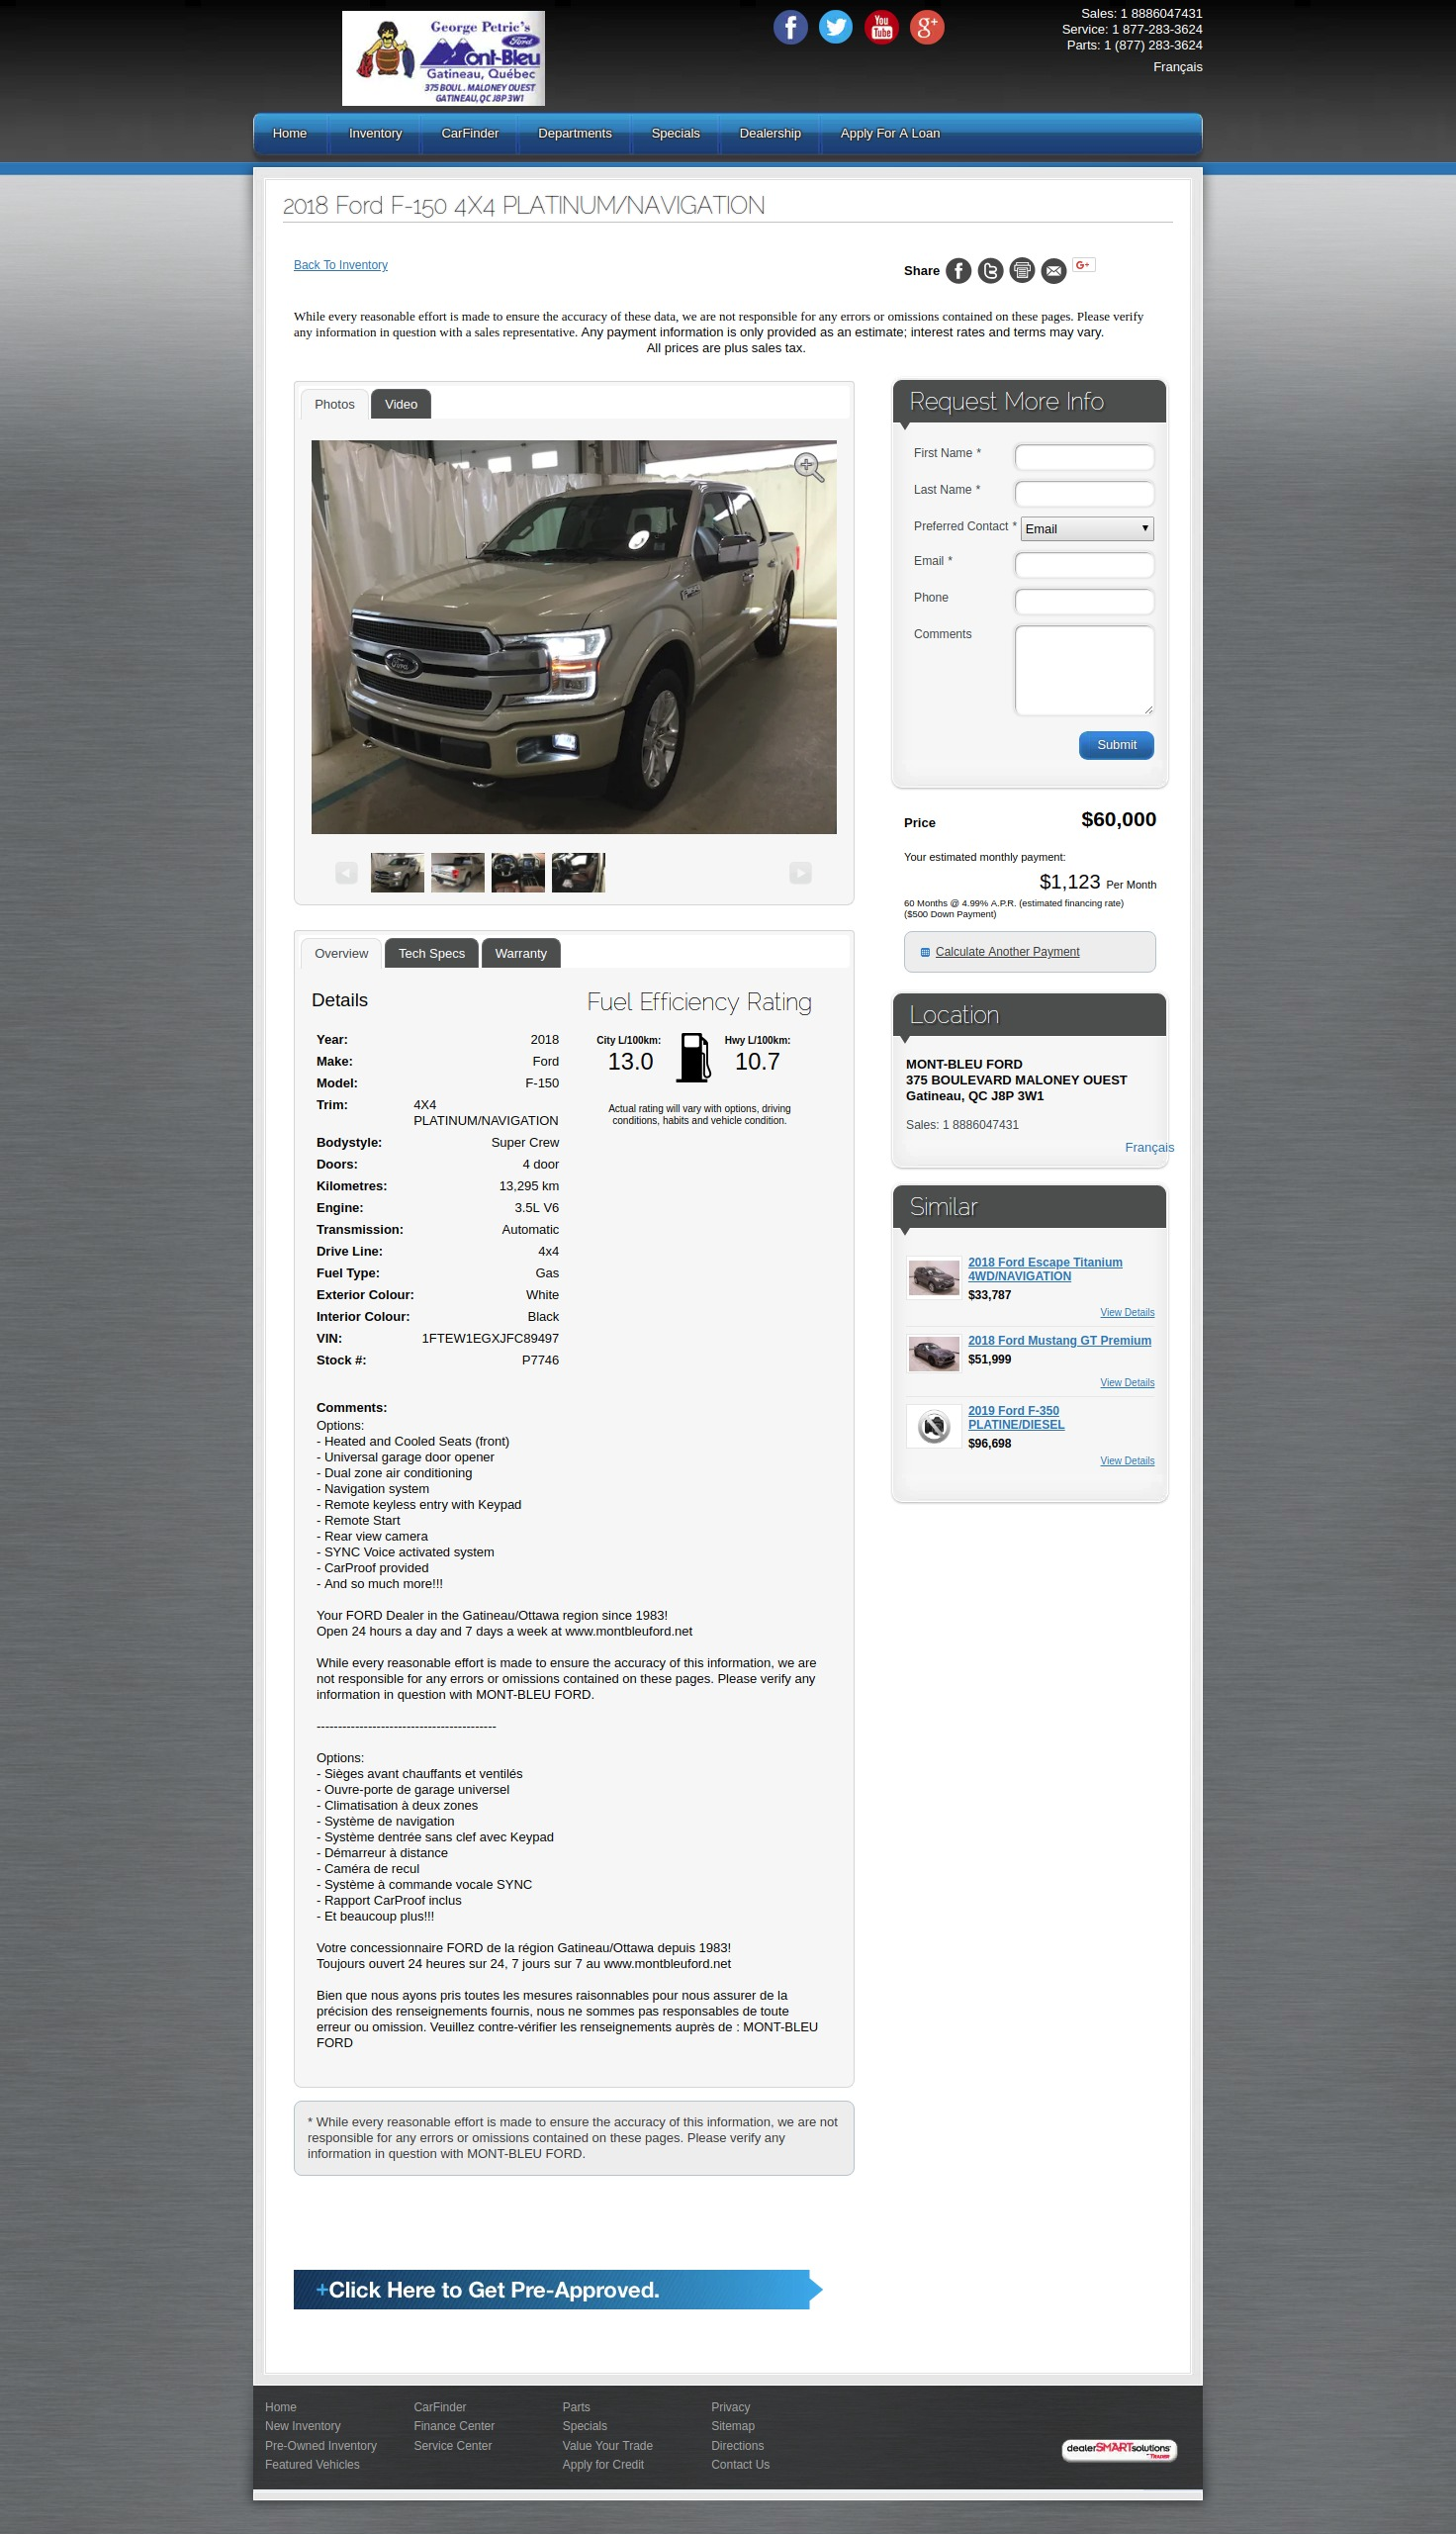car: (797, 867, 809, 882)
